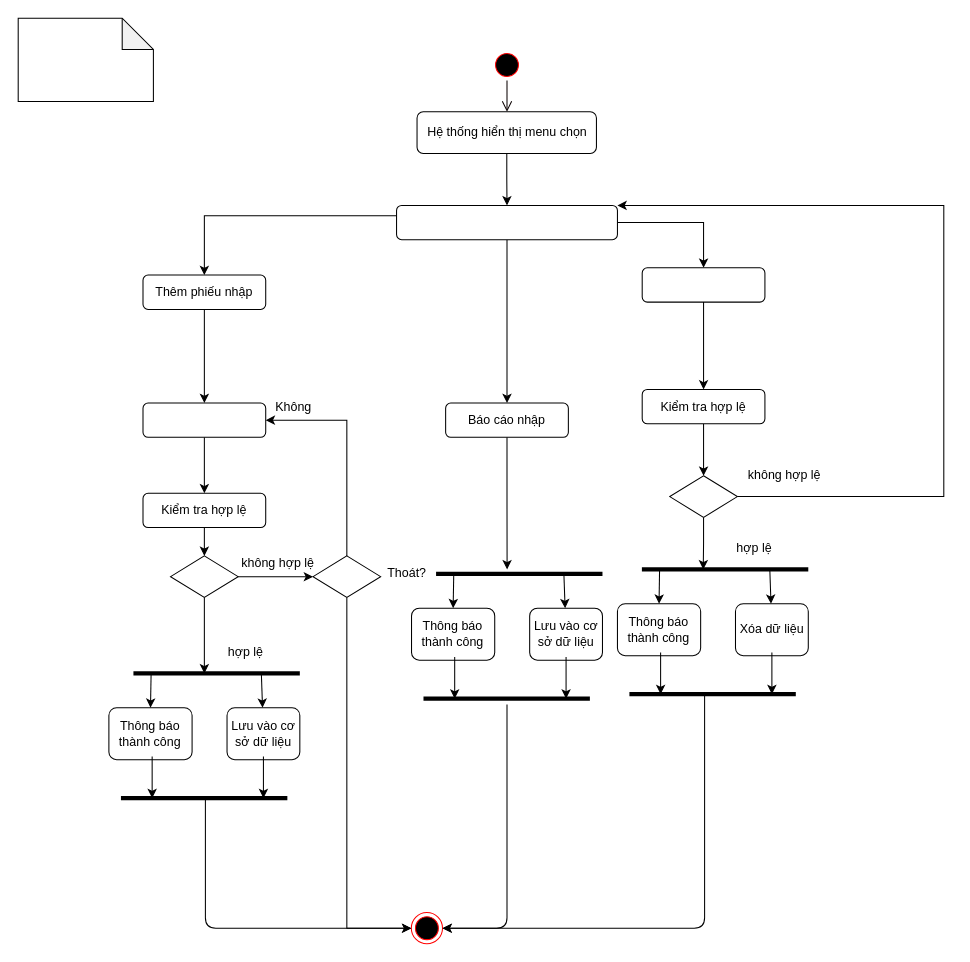
The diagram is 970 pixels wide and 962 high, and some of its shapes have lost their labels. The shapes that lost their labels are listed below. From the top down, each one's centre as x and y in pixels, then its label:
the point at 85,59: Quản lý phiếu nhập
the point at 506,222: Xem danh sách phiếu nhập
the point at 703,284: Xóa phiếu nhập
the point at 204,419: Nhập thông tin phiếu nhập
